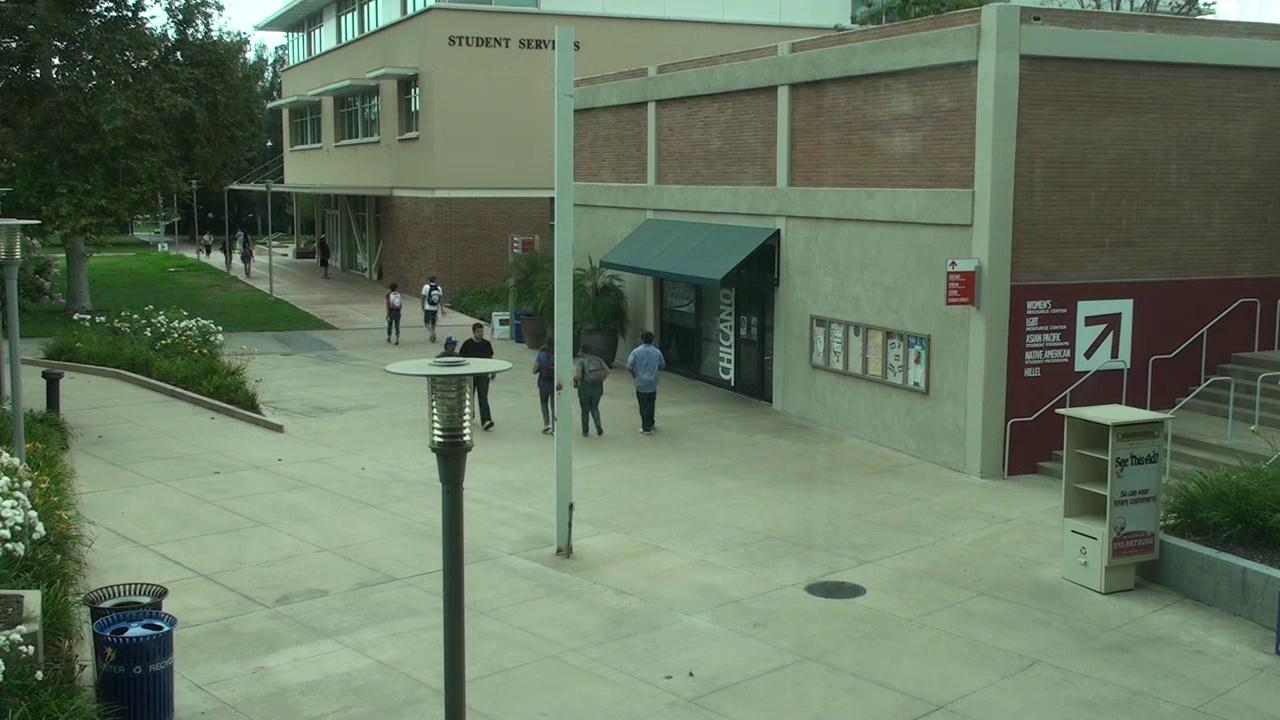person: (626, 332, 664, 434), (573, 343, 608, 436), (422, 275, 443, 342), (458, 322, 493, 357), (475, 376, 494, 430), (386, 282, 402, 344), (237, 229, 253, 276), (318, 236, 329, 278), (221, 237, 231, 271), (201, 230, 212, 257)
